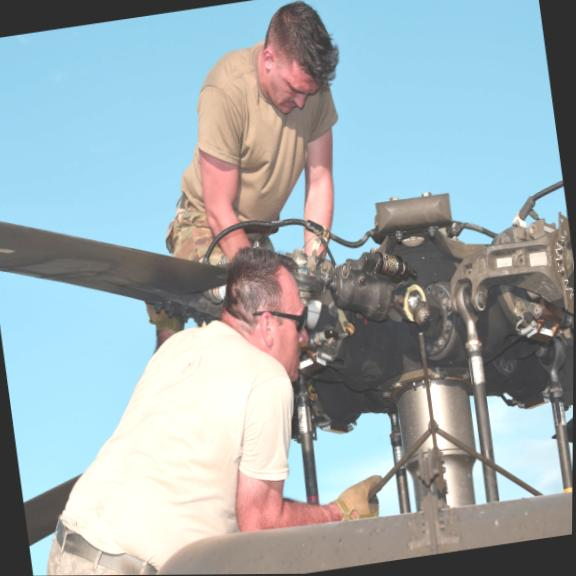no_safety_vest: (59, 301, 317, 559), (173, 37, 349, 228)
